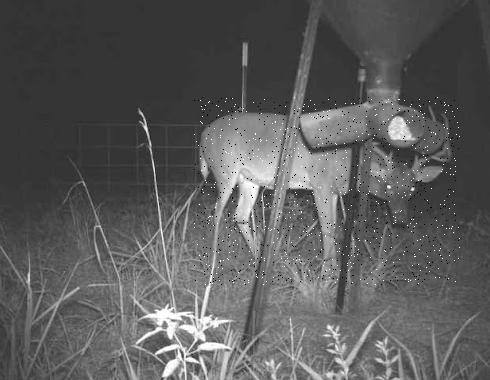Deer: (194, 97, 460, 285)
